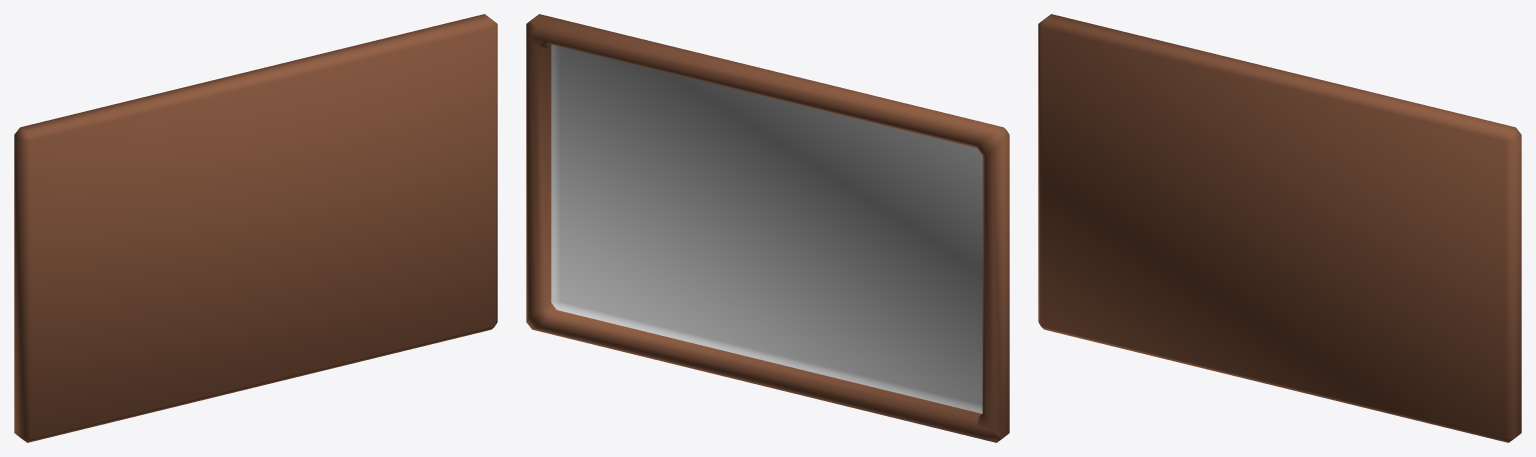
File: whiteboard.glb
The picture shows the model from 3 angles, left to right: view 1: azimuth 30°, elevation 25°; view 2: azimuth 150°, elevation 25°; view 3: azimuth 330°, elevation 25°; orthographic projection.
Visible parts, largest first — view 1: Cube.072; view 2: Cube.072; view 3: Cube.072.
Part boxes in pixels (x1=…): Cube.072: x1=14, y1=14, x2=497, y2=442; Cube.072: x1=526, y1=14, x2=1009, y2=442; Cube.072: x1=1038, y1=14, x2=1521, y2=442.
Bounding box in the file's own units: 1.6 × 0.9951 × 0.0804.
Materials: 1 (1 with a texture image).
